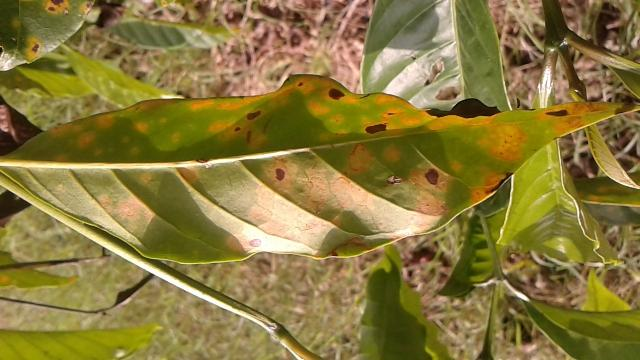rust_level_4: (12, 76, 622, 262)
